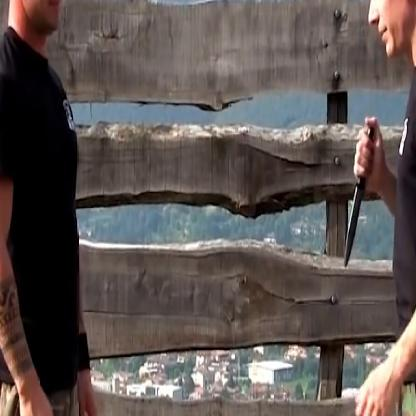knife: (338, 109, 382, 276)
